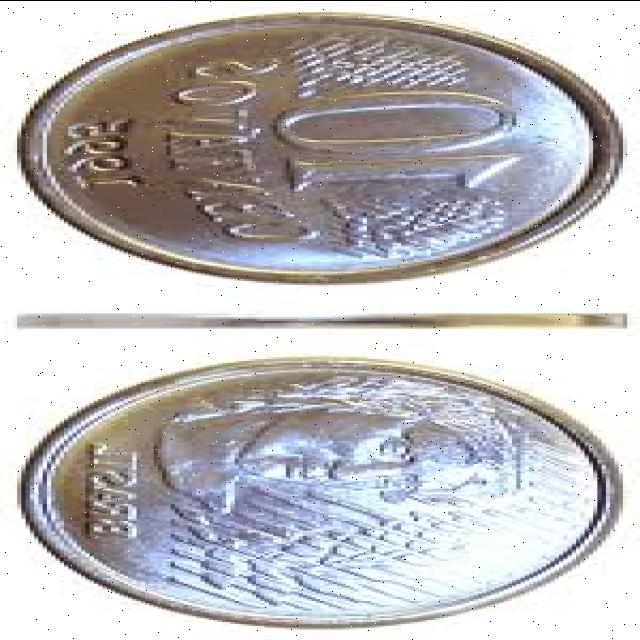10 cent: (22, 11, 614, 279), (56, 368, 598, 618)
